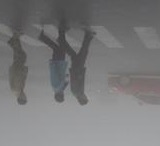person: (56, 30, 96, 106), (38, 28, 70, 104), (6, 31, 31, 106)
